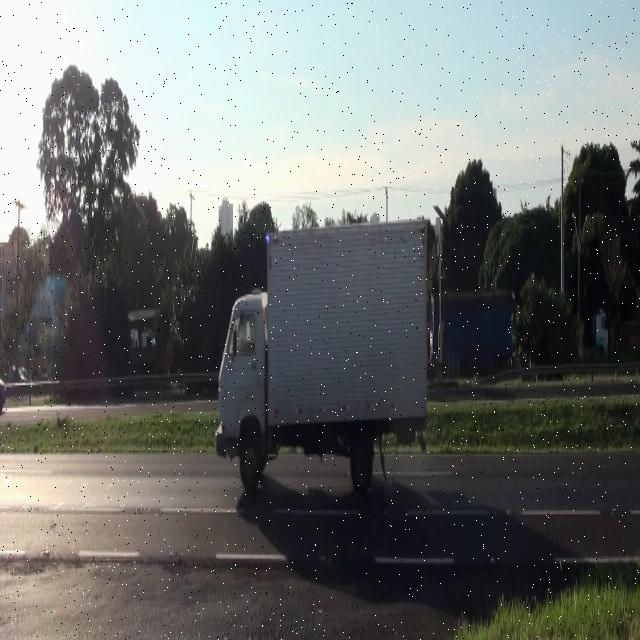-axle: (238, 427, 263, 493), (347, 434, 373, 494)
